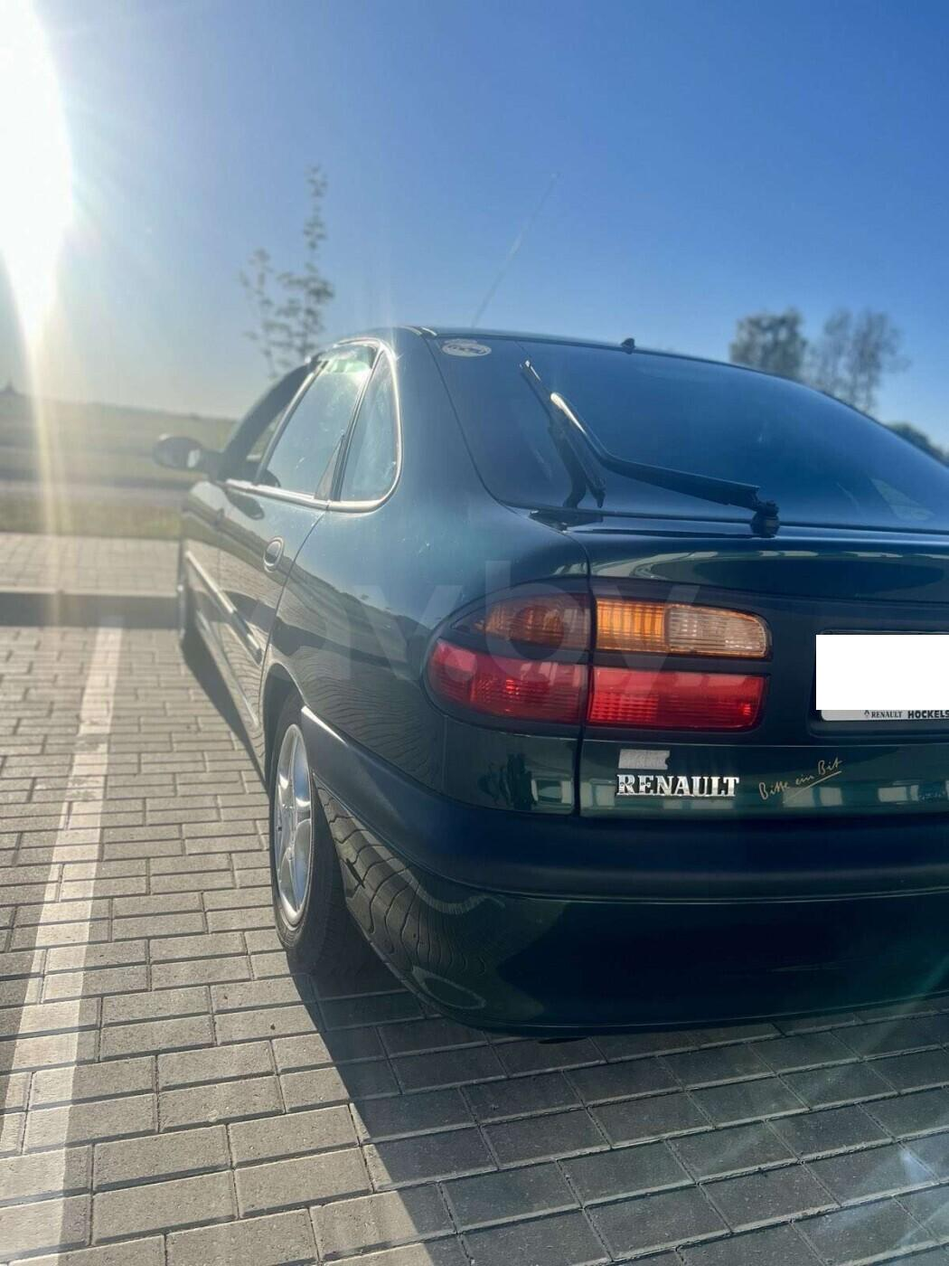Laguna_1998-2001: (159, 317, 949, 1038)
